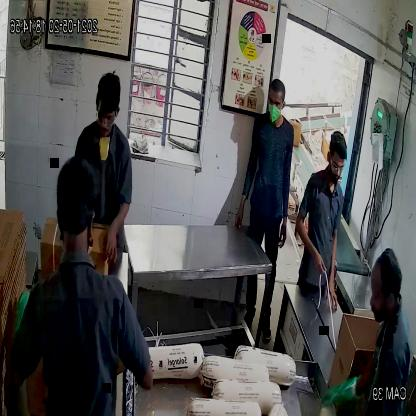goggles: (91, 104, 124, 130), (326, 160, 348, 177)
no_goggles: (266, 95, 288, 111)
